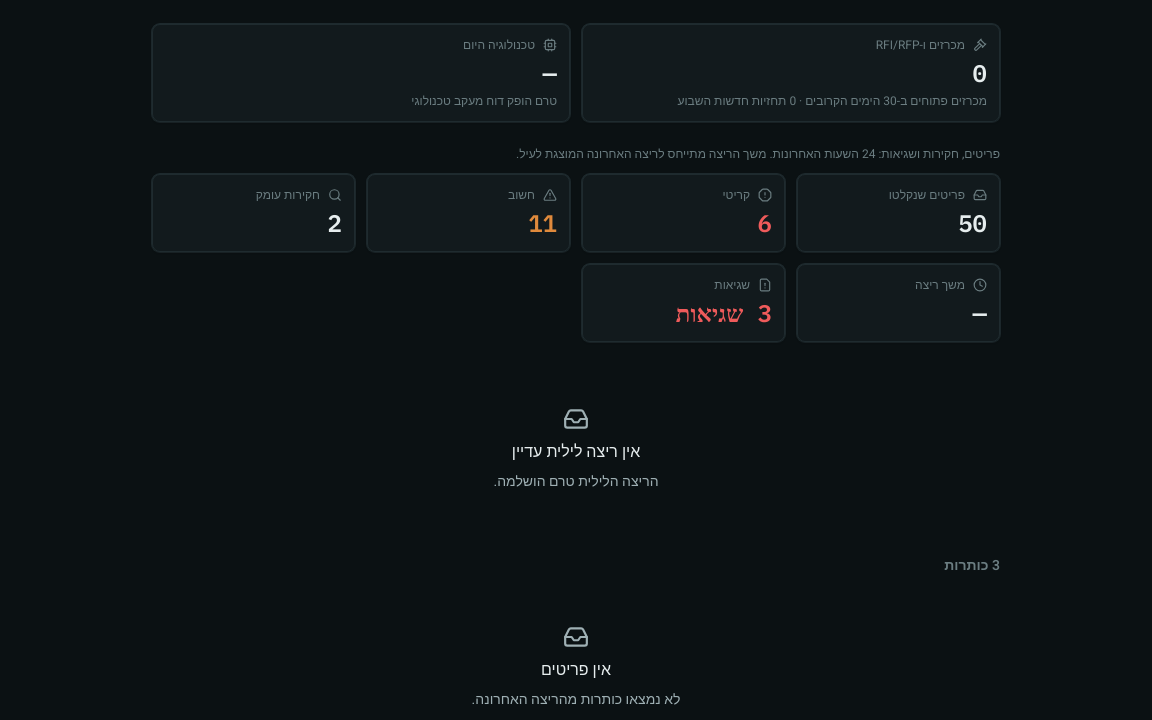
Test case: MorningPage KPI cards (U2) › the errors card opens a panel listing recent run_log errors with cause/action/impact, and a close control
The image size is (1152, 720).
Expected: the text "50" is shown, [958,207,987,239]
Step 1. Click the button "שגיאות 3 שגיאות" → (684, 303), box [582,264,785,342]
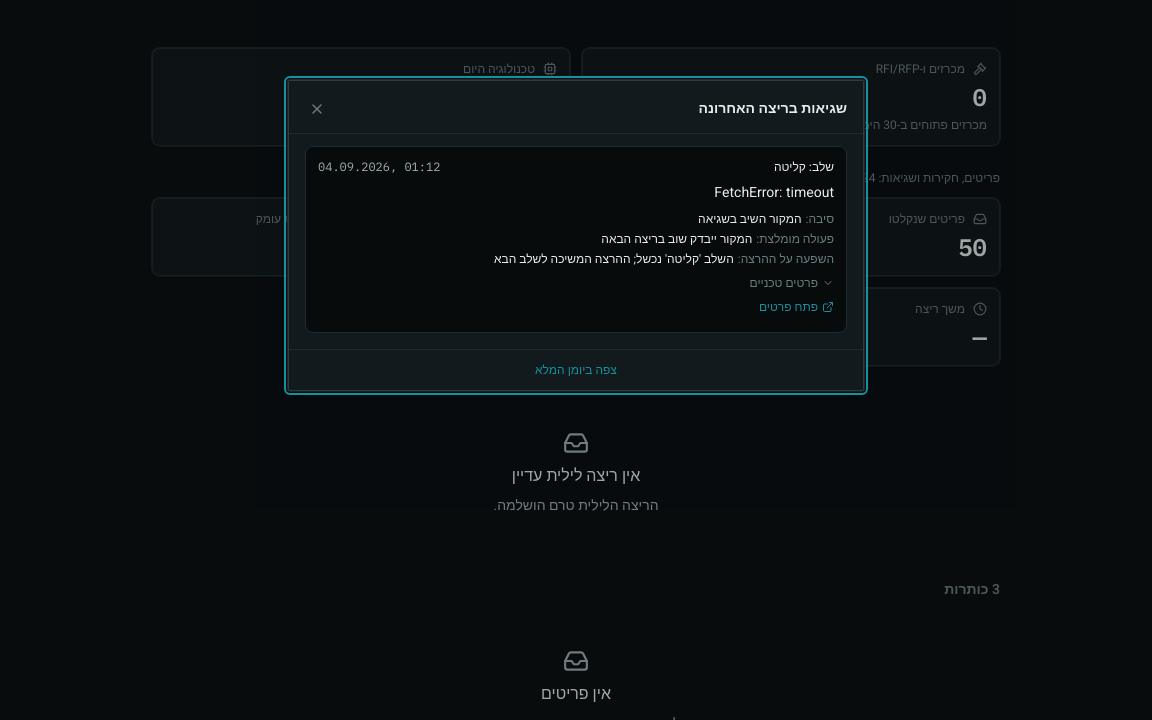
Now the dialog is shown, box [288,80,864,391]
Now the text "FetchError: timeout" is shown, box [714,182,834,203]
Now the text "המקור השיב בשגיאה" is shown, box [698,211,802,227]
Step 2. Click the button named "סגור" → (317, 109), box [305,97,329,121]
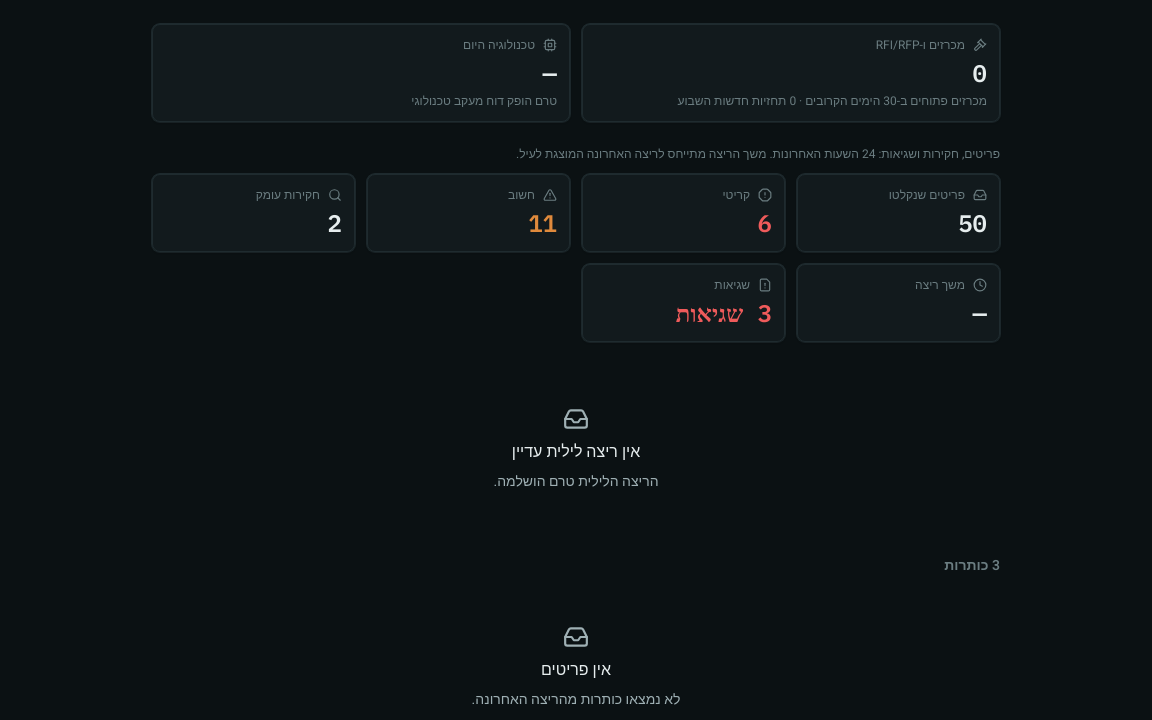
Now the dialog is gone
